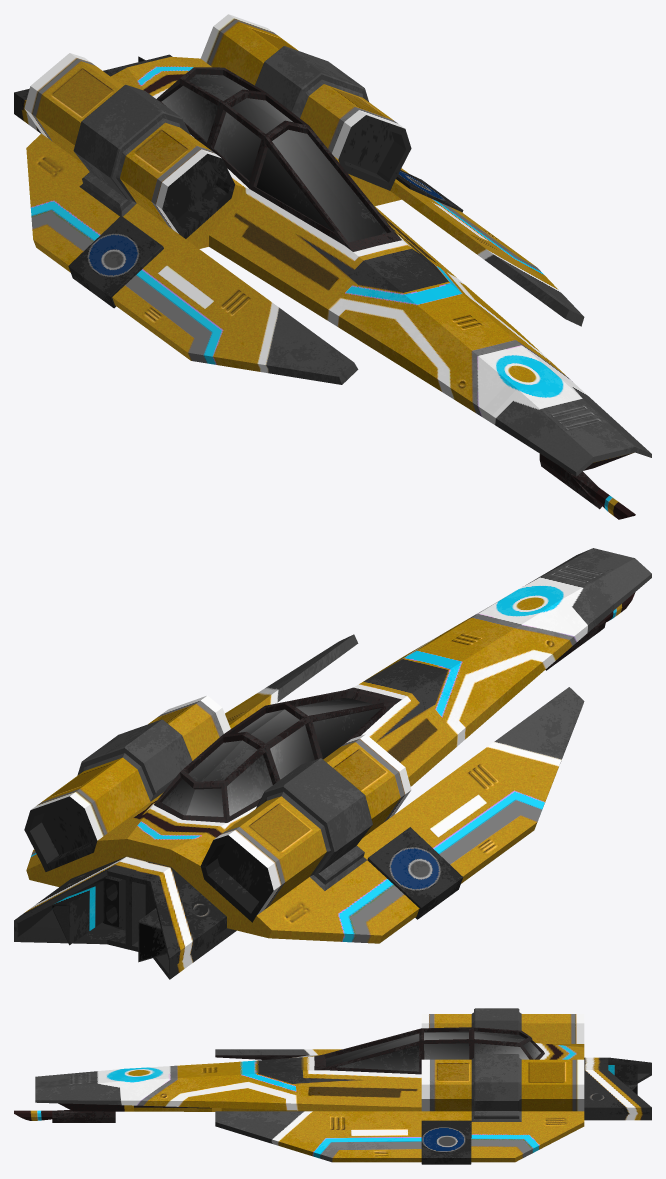
Rendered from player_slim.glb.
3 renders of one model, top to bottom at view 1: azimuth 30°, elevation 25°; view 2: azimuth 150°, elevation 25°; view 3: azimuth 270°, elevation 25°, orthographic. The views are drawn at different scales.
Parts seen in each view (by area): view 1: Feisar_Ship; view 2: Feisar_Ship; view 3: Feisar_Ship.
Part boxes in pixels (box(x1,y1,x2,y2)): Feisar_Ship: box(14, 14, 651, 519); Feisar_Ship: box(14, 548, 651, 979); Feisar_Ship: box(14, 1008, 651, 1164).
Bounding box in the file's own units: 3.21 × 1.37 × 8.49.
Materials: 1 (1 with a texture image).
